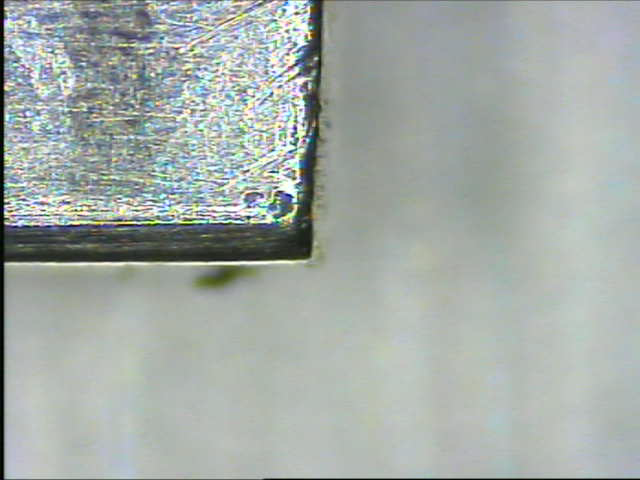edge: (293, 1, 334, 273)
